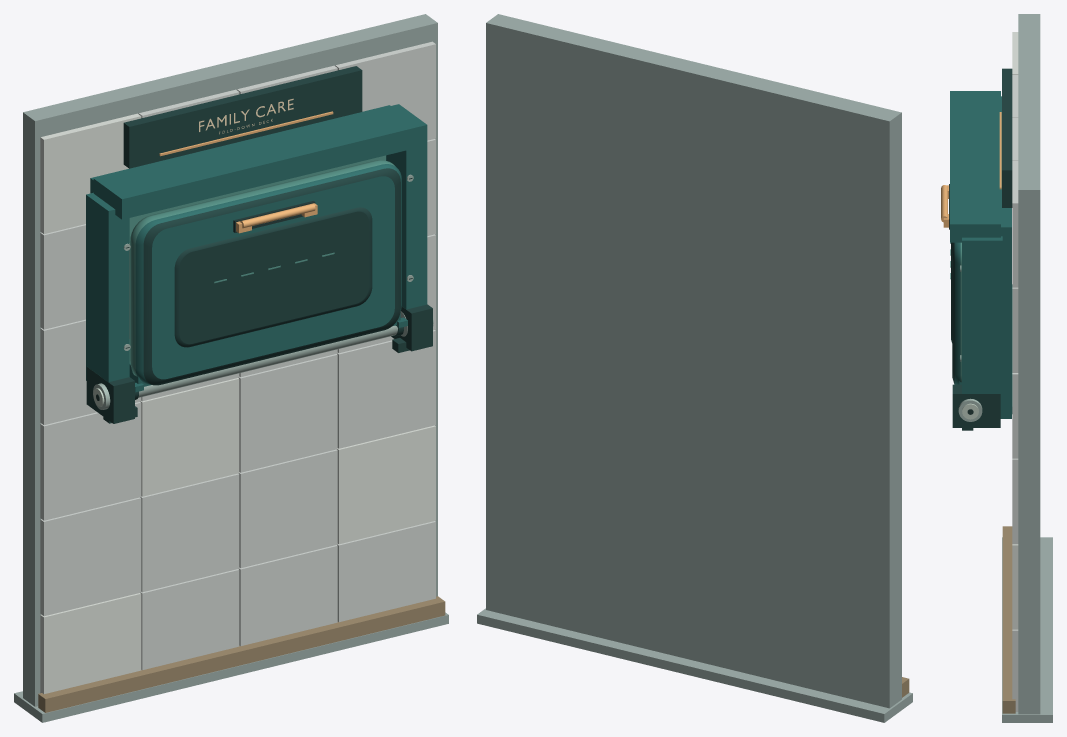
The model's file is mall-fold-down-changing-station.glb.
The picture shows the model from 3 angles, left to right: view 1: azimuth 30°, elevation 25°; view 2: azimuth 150°, elevation 25°; view 3: azimuth 270°, elevation 25°; orthographic projection. The views are drawn at different scales.
Parts seen in each view (by area): view 1: Broad movable molded tray shell, Wall section solid substrate, Inset edge stripe fascia on outer face, Shell closed upper brow, Textured narrow plaque backing, Glazed wall section tile 0 1, Glazed wall section tile 2 1, Glazed wall section tile 1 1, Glazed wall section tile 1 2, Glazed wall section tile 3 1, Glazed wall section tile 2 2, Glazed wall section tile 0 2 (+19 smaller); view 2: Wall section solid substrate, Wall sample slab foot; view 3: Wall section solid substrate, Shell closed upper brow, right molded narrow hinge cheek, Wall sample slab foot, Recessed wall mounting plate, Brushed toe trim at cropped cutaway, Textured narrow plaque backing, Broad movable molded tray shell, right dark trim beneath bearing, Glazed wall section tile 3 5, Glazed wall section tile 3 2, Glazed wall section tile 3 1 (+9 smaller).
Boxes of the visible parts, left/top/right/bottom form: Broad movable molded tray shell: left=130, top=160, right=401, bottom=385; Wall section solid substrate: left=23, top=14, right=437, bottom=706; Inset edge stripe fascia on outer face: left=174, top=207, right=372, bottom=347; Shell closed upper brow: left=93, top=104, right=427, bottom=219; Textured narrow plaque backing: left=123, top=66, right=362, bottom=168; Glazed wall section tile 0 1: left=40, top=497, right=141, bottom=616; Glazed wall section tile 2 1: left=238, top=449, right=337, bottom=568; Glazed wall section tile 1 1: left=140, top=473, right=239, bottom=592; Glazed wall section tile 1 2: left=140, top=378, right=239, bottom=496; Glazed wall section tile 3 1: left=337, top=425, right=435, bottom=544; Glazed wall section tile 2 2: left=238, top=354, right=337, bottom=472; Glazed wall section tile 0 2: left=40, top=402, right=141, bottom=520; Wall section solid substrate: left=486, top=14, right=901, bottom=708; Wall sample slab foot: left=477, top=608, right=912, bottom=722; Wall section solid substrate: left=1018, top=14, right=1040, bottom=714; Shell closed upper brow: left=950, top=91, right=1000, bottom=242; right molded narrow hinge cheek: left=962, top=236, right=1002, bottom=407; Wall sample slab foot: left=1002, top=537, right=1052, bottom=722; Recessed wall mounting plate: left=1000, top=96, right=1011, bottom=418; Brushed toe trim at cropped cutaway: left=1002, top=526, right=1015, bottom=713; Textured narrow plaque backing: left=1002, top=68, right=1012, bottom=207; Broad movable molded tray shell: left=952, top=242, right=961, bottom=384; right dark trim beneath bearing: left=952, top=384, right=1000, bottom=427; Glazed wall section tile 3 5: left=1012, top=160, right=1018, bottom=287; Glazed wall section tile 3 2: left=1012, top=458, right=1018, bottom=544; Glazed wall section tile 3 1: left=1012, top=544, right=1018, bottom=629.
Size of the model in its own units: 1.1 by 1.54 by 0.2925.
